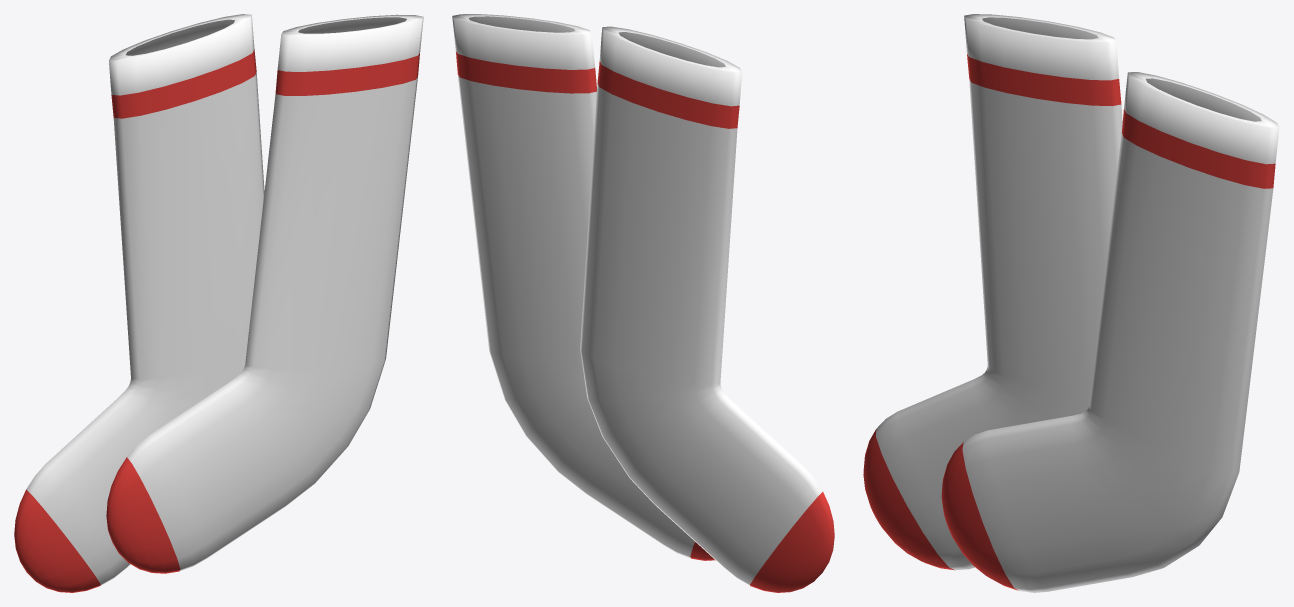
Rendered from socks.glb.
The picture shows the model from 3 angles, left to right: view 1: azimuth 30°, elevation 25°; view 2: azimuth 150°, elevation 25°; view 3: azimuth 330°, elevation 25°; orthographic projection. The views are drawn at different scales.
Parts seen in each view (by area): view 1: Sphere.353; view 2: Sphere.353; view 3: Sphere.353.
Boxes of the visible parts, x1,y1,x2,y2 form: Sphere.353: (14, 14, 423, 592); Sphere.353: (452, 14, 834, 592); Sphere.353: (863, 14, 1279, 592).
Size of the model in its own units: 1.77 by 2.26 by 0.2059.
1 material, 1 textured.
